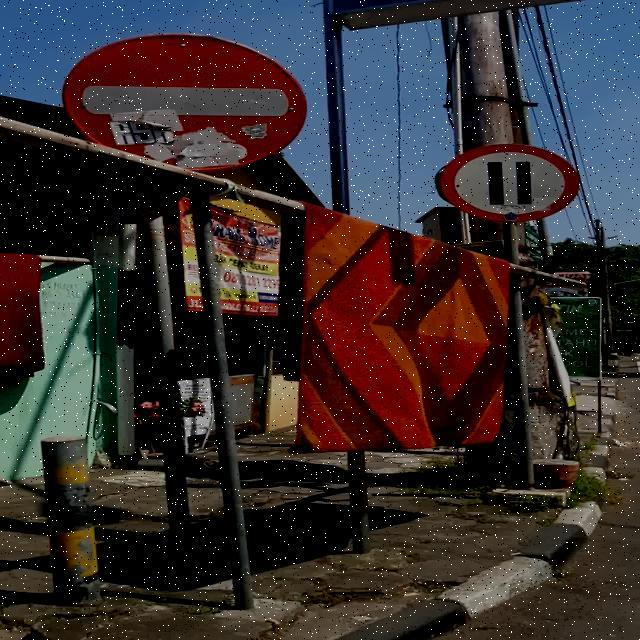Larangan Muatan - 10 ton: (441, 143, 578, 222)
